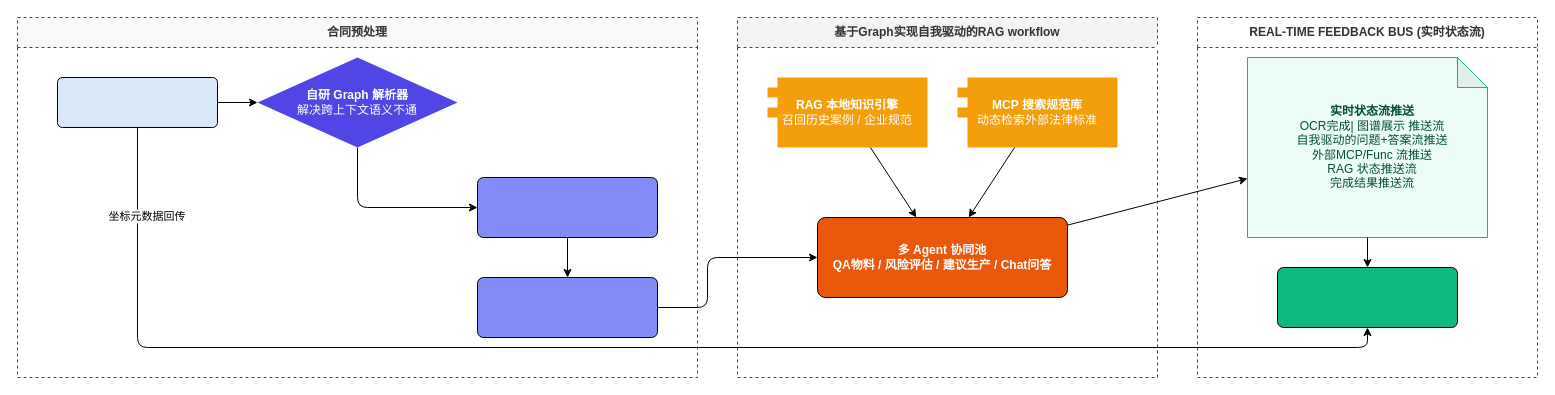
Some shapes in this 1555 by 395 pixel diagram are drawn without their labels. Here are the shapes that lost their labels. From the top down, the centre of each, then its label:
[137,102]: 文档解析接口 PDF / Word / MinerU
[567,207]: 局部感知识别 chunk切分 实体/关系提取
[567,307]: 全局拓扑对齐 保持连续段落语义连贯
[1367,297]: 前端坐标渲染 风险点精准框选回显 并发送消息提示完成
